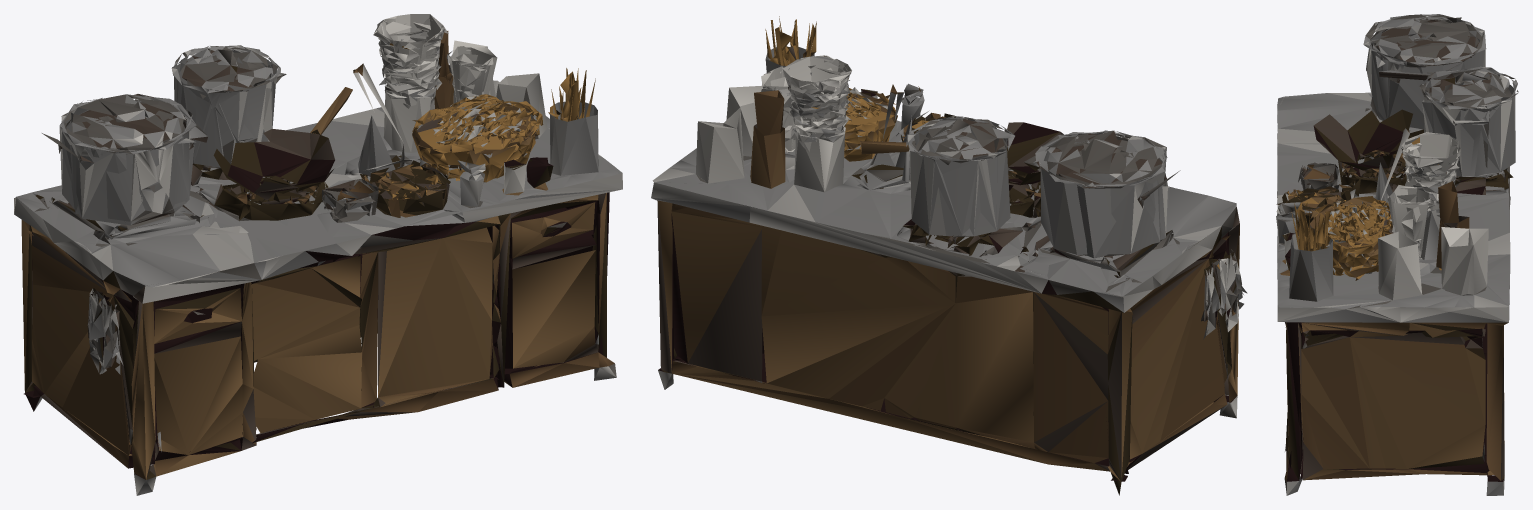
File: stall.glb
3 views of the same model, side by side, from view 1: azimuth 30°, elevation 25°; view 2: azimuth 150°, elevation 25°; view 3: azimuth 270°, elevation 25° (orthographic). The views are drawn at different scales.
Visible parts, largest first — view 1: stall; view 2: stall; view 3: stall.
Part boxes in pixels (x1,y1,x2,y2): stall: (14, 14, 622, 495); stall: (651, 16, 1247, 495); stall: (1276, 14, 1518, 495).
Size of the model in its own units: 2.5 by 1.58 by 1.16.
